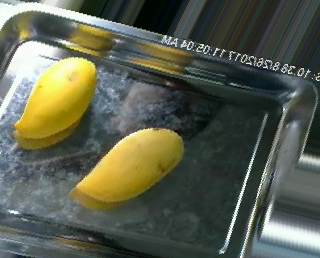Mango: (72, 122, 186, 214), (14, 57, 96, 141)
